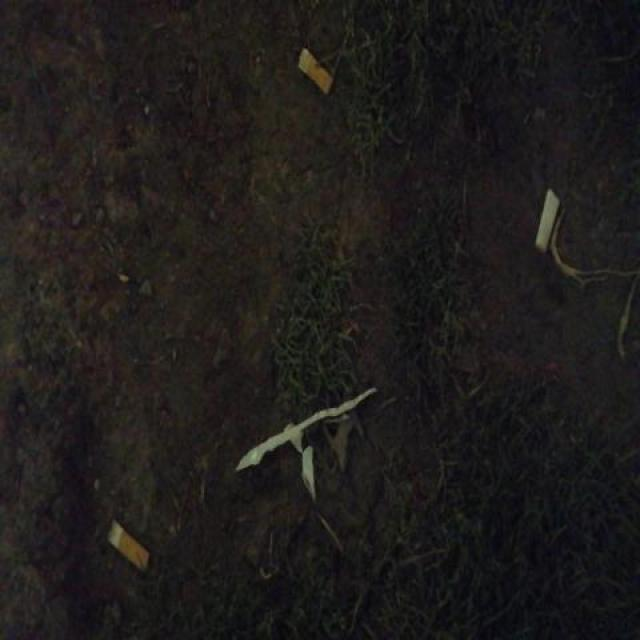non-organic waste: (103, 516, 153, 577), (530, 181, 563, 258), (294, 44, 337, 100)
